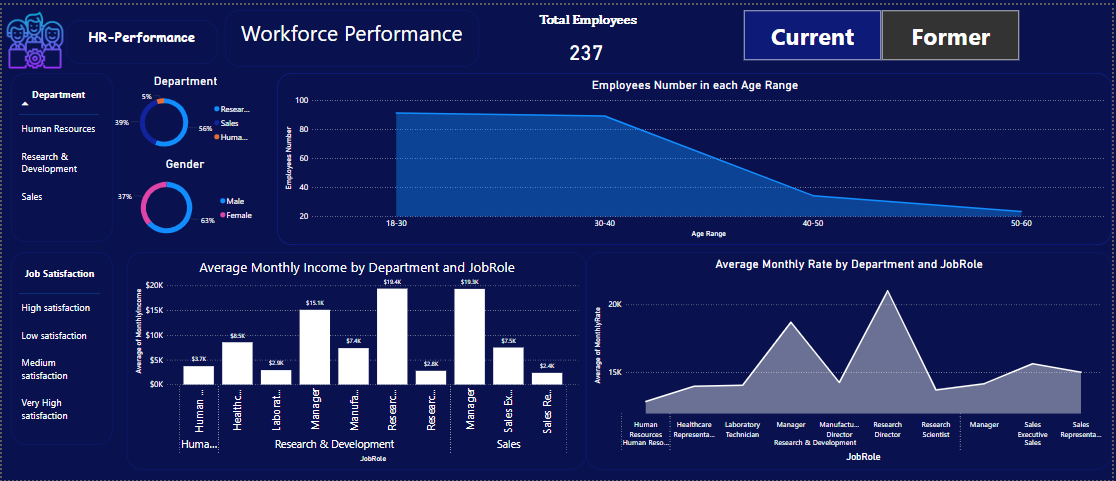

The dashboard page shown, as its layout file describes it:
{"tool":"powerbi","page":{"name":"Workforce Performance","canvas":[2220,950],"ordinal":0},"visuals":[{"type":"textbox","box":[128.4,30.5,302.8,88],"z":0,"group":"g1"},{"type":"card","fields":{"Values":["CountNonNull(HR-Employee-Attrition.EmployeeNumber)"]},"box":[953.4,54.9,432.3,72.5],"z":0,"group":"g2"},{"type":"tableEx","fields":{"Values":["HR-Employee-Attrition.Department"]},"box":[17.1,136.8,203.3,338.2],"z":0},{"type":"image","box":[4.1,4.1,124.3,132],"z":1000,"group":"g1"},{"type":"columnChart","title":"Average Monthly Income by  Department and JobRole","fields":{"Category":["HR-Employee-Attrition.Department","HR-Employee-Attrition.JobRole"],"Y":["Avg(HR-Employee-Attrition.MonthlyIncome)"]},"box":[250.8,494,917.7,435.1],"z":1000},{"type":"textbox","box":[934.6,10.1,472.5,64],"z":2000,"group":"g2"},{"type":"areaChart","title":"Average Monthly Rate by Department and JobRole","fields":{"Category":["HR-Employee-Attrition.Department","HR-Employee-Attrition.JobRole"],"Y":["Avg(HR-Employee-Attrition.MonthlyRate)"]},"box":[1168.5,494,1050.7,435.1],"z":2000},{"type":"group","id":"g1","title":"Group 4","box":[4.1,4.1,427.1,132],"z":3000},{"type":"donutChart","title":"Gender","fields":{"Category":["HR-Employee-Attrition.Gender"],"Y":["CountNonNull(HR-Employee-Attrition.Gender)"]},"box":[218.4,304.4,295.8,175.4],"z":4000},{"type":"slicer","title":"Attrition","fields":{"Values":["HR-Employee-Attrition.Attrition"]},"box":[1458.7,4.1,600.4,113.5],"z":5000},{"type":"donutChart","title":"Department ","fields":{"Category":["HR-Employee-Attrition.Department"],"Y":["CountNonNull(HR-Employee-Attrition.Department)"]},"box":[220.2,137.6,294.1,166.8],"z":6000},{"type":"group","id":"g2","title":"Group 1","box":[934.6,10.1,472.5,117.4],"z":7000},{"type":"areaChart","title":"Employees Number in each Age Range","fields":{"Category":["HR-Employee-Attrition.Age Range"],"Y":["CountNonNull(HR-Employee-Attrition.EmployeeNumber)"]},"box":[549.1,136.8,1670.1,343.9],"z":8000},{"type":"tableEx","fields":{"Values":["HR-Employee-Attrition.Job Satisfaction"]},"box":[17.1,494,203.3,385.7],"z":9000},{"type":"textbox","box":[445.7,10.3,507.5,113.5],"z":10000}]}

Visuals, with their boxes in screenshot pixels (x1, y1, x2, y2), scaled from the page's 2220x950 canvas onto the 1116x481 screenshot:
textbox: x1=65, y1=15, x2=217, y2=60
card - CountNonNull(HR-Employee-Attrition.EmployeeNumber): x1=479, y1=28, x2=697, y2=65
tableEx - HR-Employee-Attrition.Department: x1=9, y1=69, x2=111, y2=240
image: x1=2, y1=2, x2=65, y2=69
"Average Monthly Income by  Department and JobRole" columnChart: x1=126, y1=250, x2=587, y2=470
textbox: x1=470, y1=5, x2=707, y2=38
"Average Monthly Rate by Department and JobRole" areaChart: x1=587, y1=250, x2=1115, y2=470
"Group 4" group: x1=2, y1=2, x2=217, y2=69
"Gender" donutChart: x1=110, y1=154, x2=258, y2=243
"Attrition" slicer: x1=733, y1=2, x2=1035, y2=60
"Department " donutChart: x1=111, y1=70, x2=259, y2=154
"Group 1" group: x1=470, y1=5, x2=707, y2=65
"Employees Number in each Age Range" areaChart: x1=276, y1=69, x2=1115, y2=243
tableEx - HR-Employee-Attrition.Job Satisfaction: x1=9, y1=250, x2=111, y2=445
textbox: x1=224, y1=5, x2=479, y2=63
